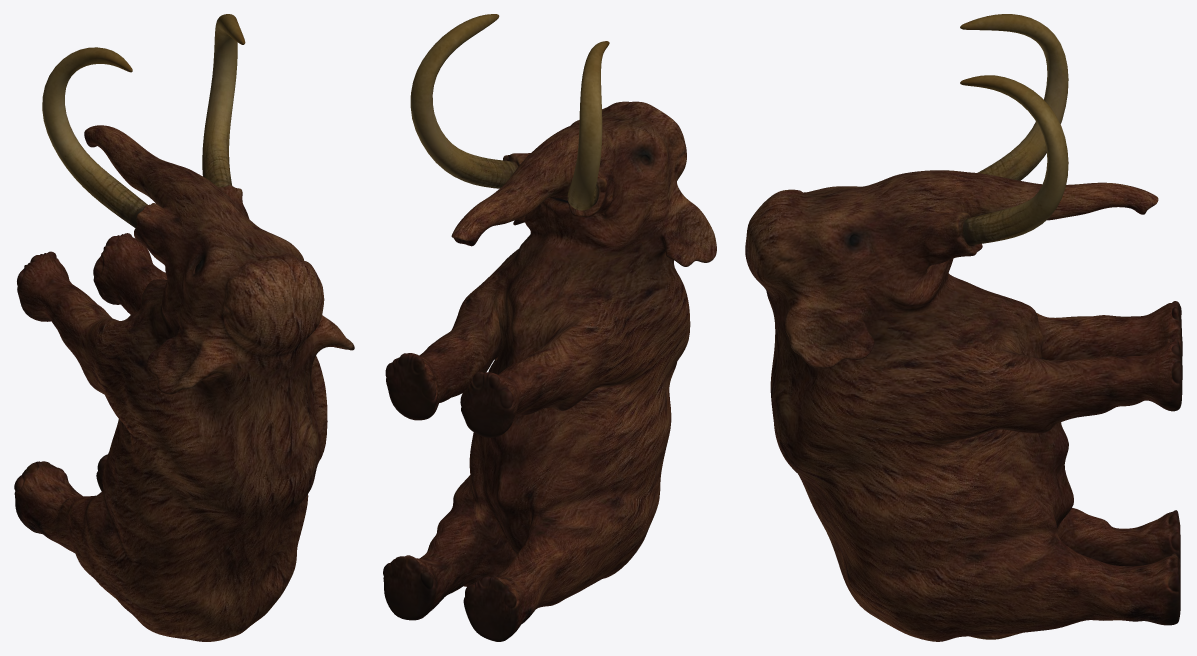
The model's file is withtext.fbx.
3 views of the same model, side by side, from view 1: azimuth 30°, elevation 25°; view 2: azimuth 150°, elevation 25°; view 3: azimuth 270°, elevation 25° (orthographic). The views are drawn at different scales.
Visible parts, largest first — view 1: 12229_mammmoth_v1_L3; view 2: 12229_mammmoth_v1_L3; view 3: 12229_mammmoth_v1_L3.
Part boxes in pixels (box(x1,y1,x2,y2)): 12229_mammmoth_v1_L3: box(14, 14, 354, 641); 12229_mammmoth_v1_L3: box(383, 14, 716, 641); 12229_mammmoth_v1_L3: box(745, 14, 1182, 641).
Size of the model in its own units: 8680 by 25055 by 16765.
Materials: 2 (2 with a texture image).
